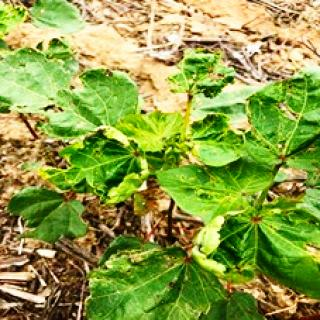wilt: (58, 127, 148, 189), (189, 172, 257, 228), (126, 107, 198, 157)
